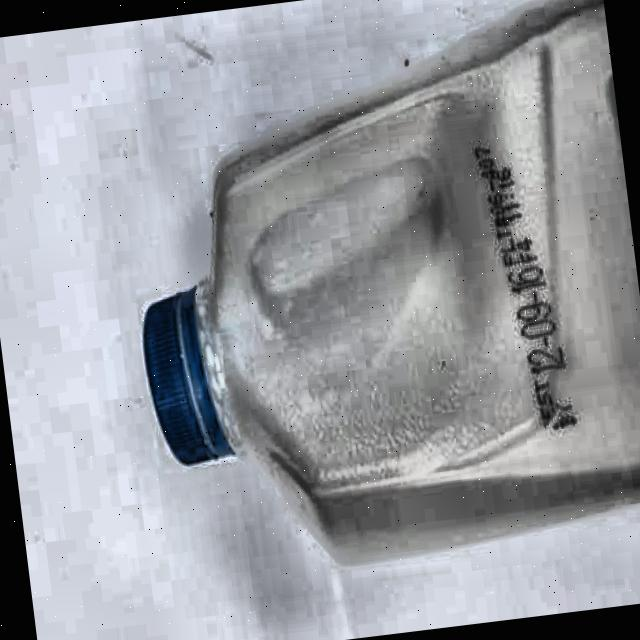plastic: (108, 0, 640, 576)
